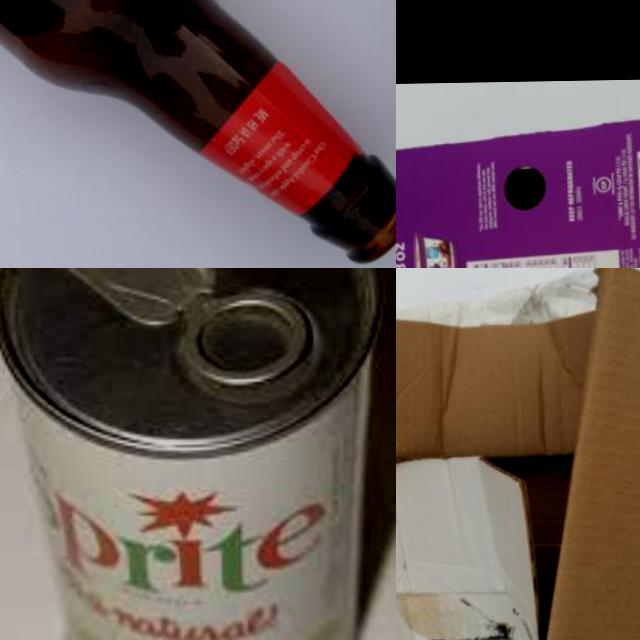aba de lata: (174, 280, 320, 399)
garrafa de vidro: (0, 0, 396, 268)
lata: (0, 268, 387, 640)
papelão: (396, 268, 640, 640), (396, 97, 640, 268)
